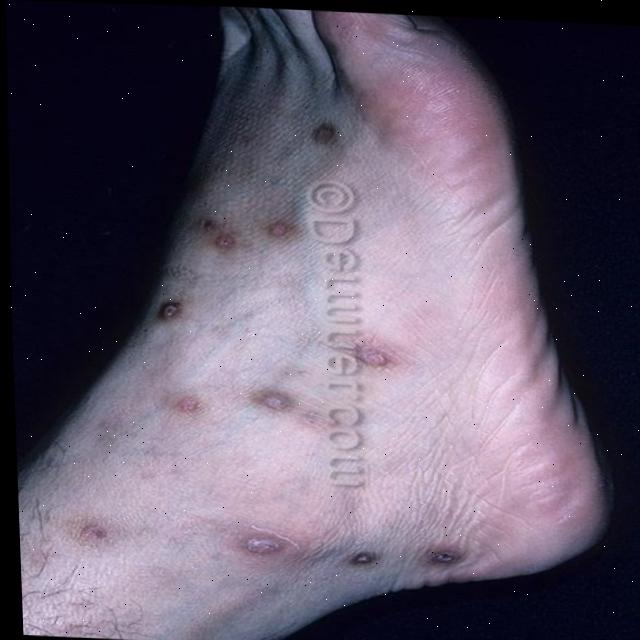Eczema: (119, 136, 531, 613)
